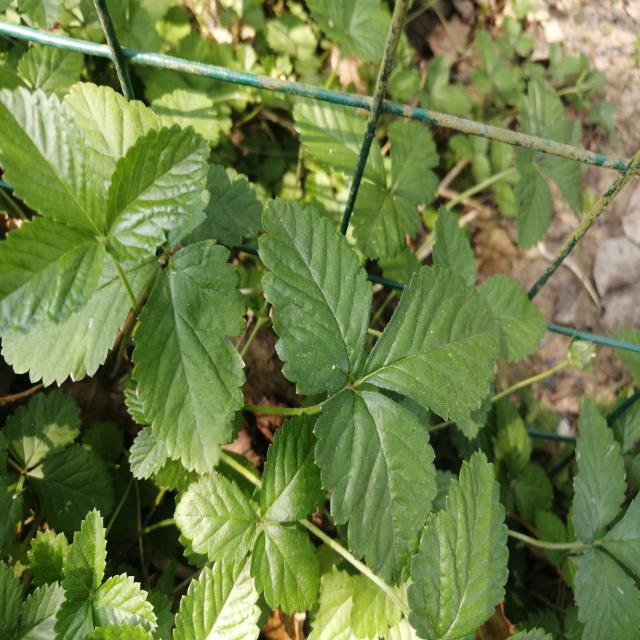Mock_strawberry: (249, 192, 503, 586)
